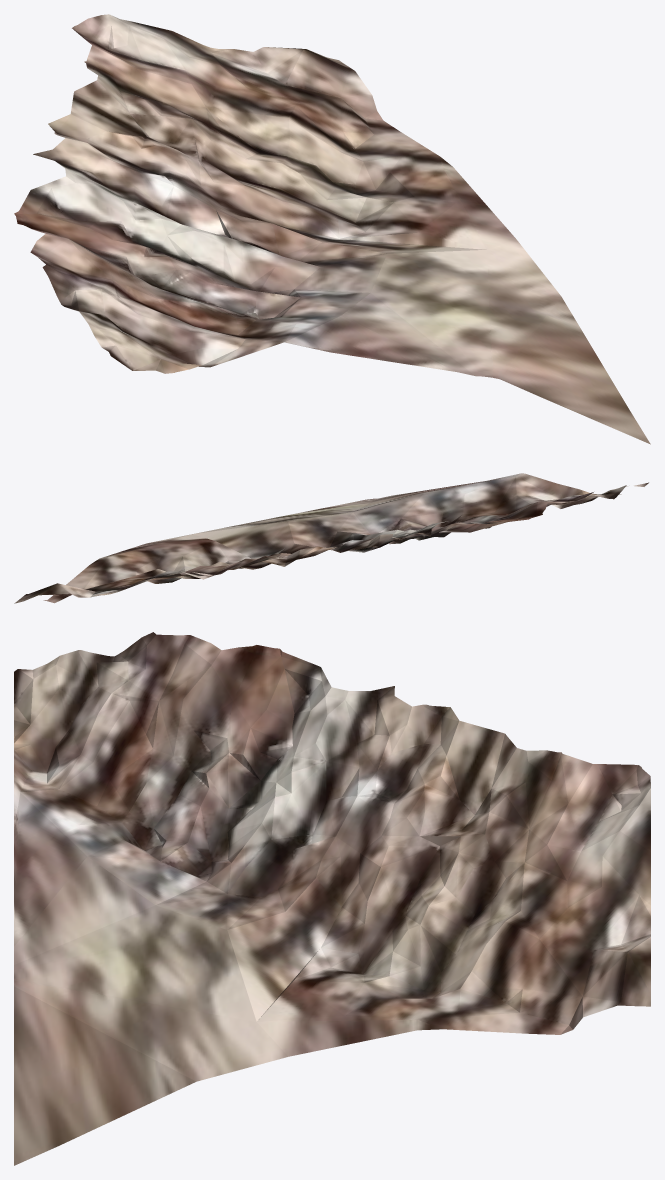
The picture shows the model from 3 angles, top to bottom: view 1: azimuth 30°, elevation 25°; view 2: azimuth 150°, elevation 25°; view 3: azimuth 270°, elevation 25°; orthographic projection. The views are drawn at different scales.
Size of the model in its own units: 1.67 by 0.768 by 1.67.
2 materials, 2 textured.
